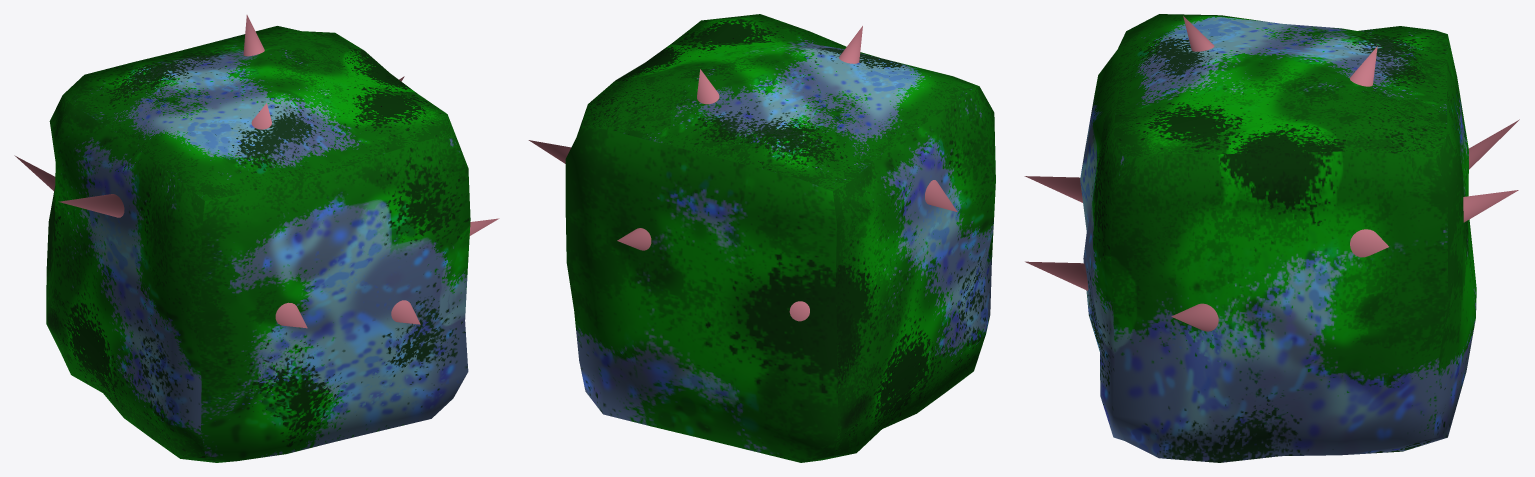
Rendered from Model_Gimmick_DesNemako.fbx.
The picture shows the model from 3 angles, left to right: view 1: azimuth 30°, elevation 25°; view 2: azimuth 150°, elevation 25°; view 3: azimuth 270°, elevation 25°; orthographic projection. The views are drawn at different scales.
Parts seen in each view (by area): view 1: pCone6; view 2: pCone6; view 3: pCone6.
Boxes of the visible parts, <box> form: pCone6: <box>14,15,499,462</box>; pCone6: <box>528,14,995,462</box>; pCone6: <box>1024,14,1519,462</box>.
Size of the model in its own units: 132 by 113 by 136.
